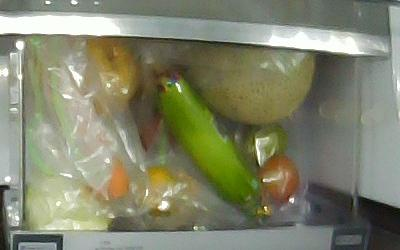cabbage_vinyl: (24, 175, 109, 231)
carrot_vinyl: (90, 152, 131, 201)
melon_vinyl: (189, 42, 315, 125)
pear_vinyl: (81, 37, 140, 116)
tangerine_vinyl: (135, 166, 179, 216)
tomato_vinyl: (258, 155, 299, 206), (243, 124, 288, 167)
zucchini: (151, 65, 273, 225)
